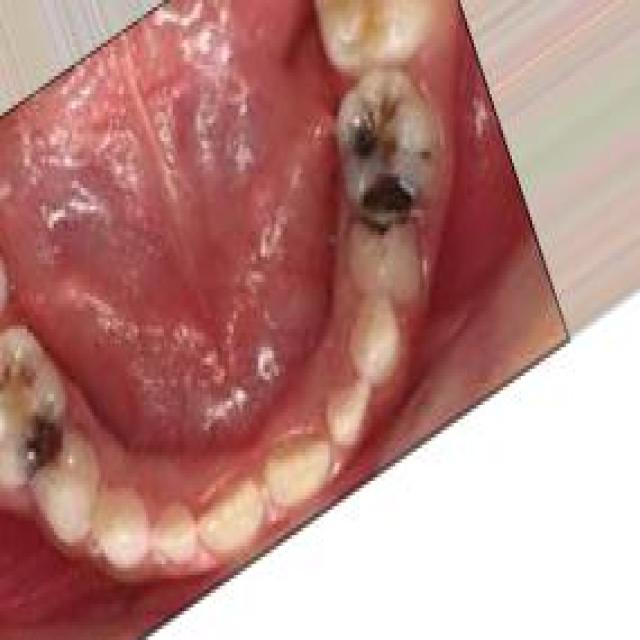caries: (333, 66, 440, 241), (0, 338, 77, 495)
